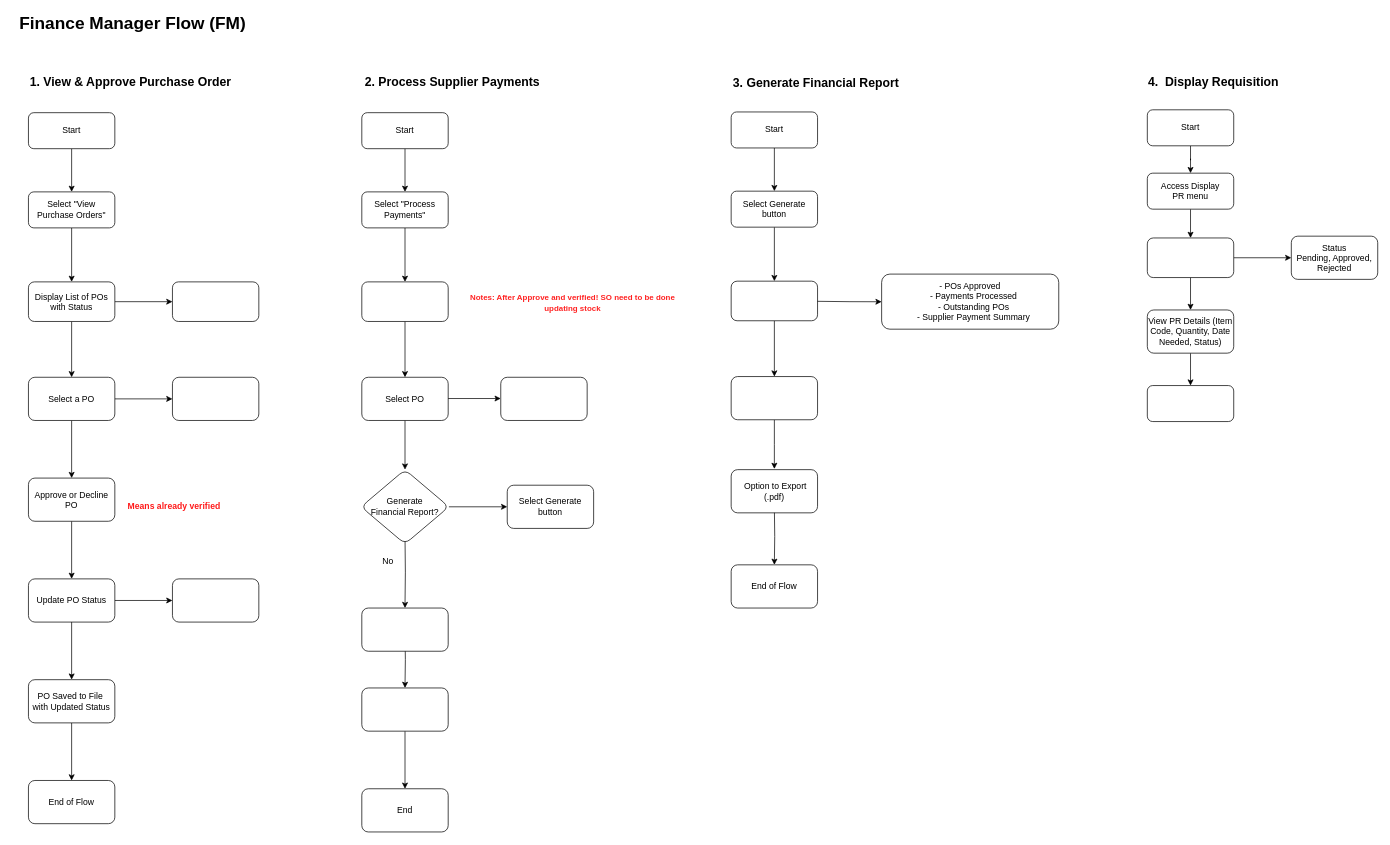
Image size: 1390x845. Some labels were removed from this diagram. The shapes that lost their labels are listed below. From the top down, each one's centre as x and y in pixels, then its label:
point 1190,257: View List of PRs
point 215,301: Pending Approval
point 404,301: System Displays List of Approved & Verified POs
point 774,300: System Compiles Data
point 215,398: View Item(s), Supplier(s), Quantity
point 543,398: Confirm Payment Details
point 774,398: Display Report
point 1190,403: End of View PR Process
point 215,600: "Approved" or "Declined"
point 404,629: Update PO Status to "Paid"
point 404,709: Save Payment Log to File
